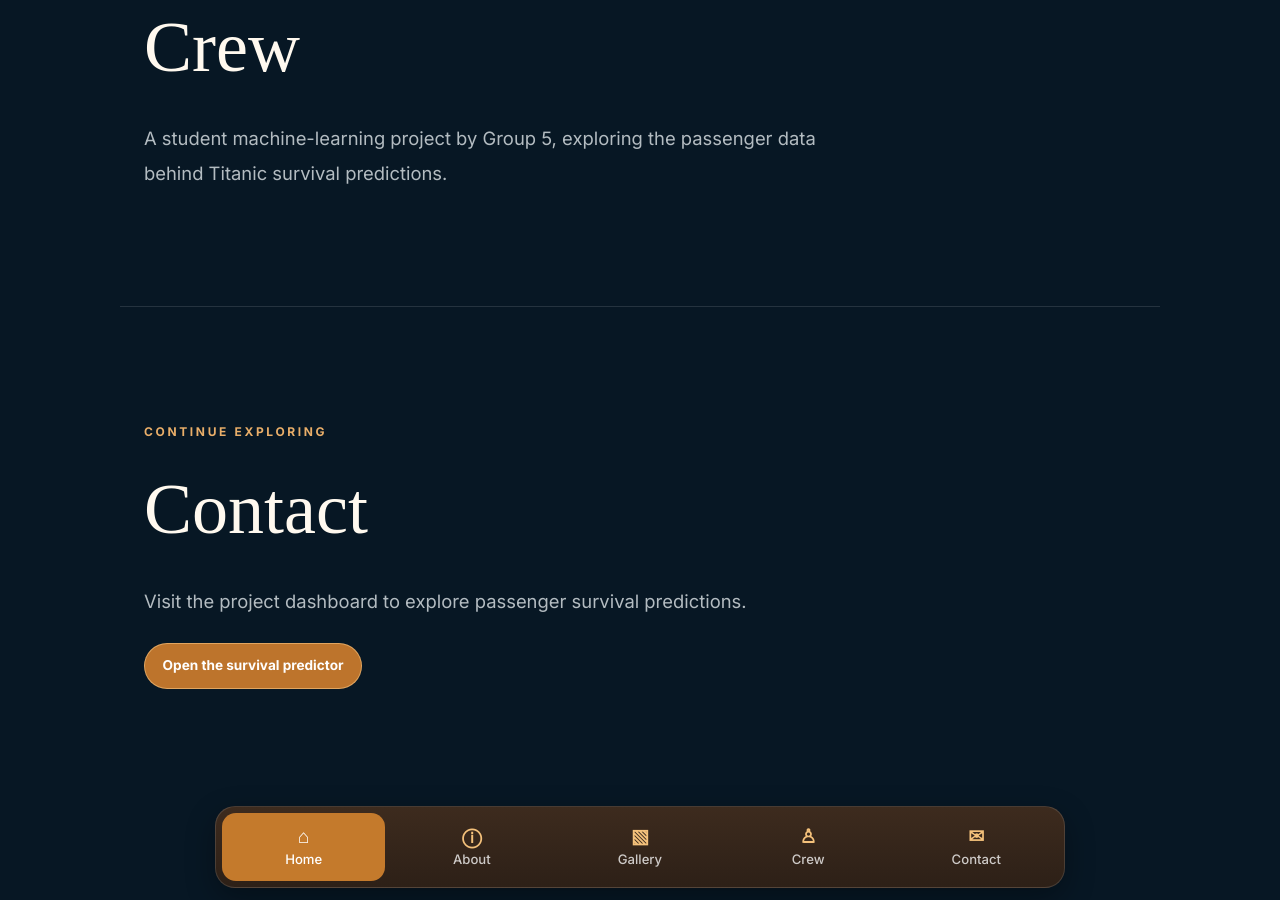
Test: renders a Titanic landing page with section navigation and image gallery
(page scrolled)
expect the footer named "Footer navigation" is shown: met, box [215,806,1065,888]
Click the button "Open the survival predictor": {"x": 253, "y": 666} [144,643,362,689]
(page scrolled)
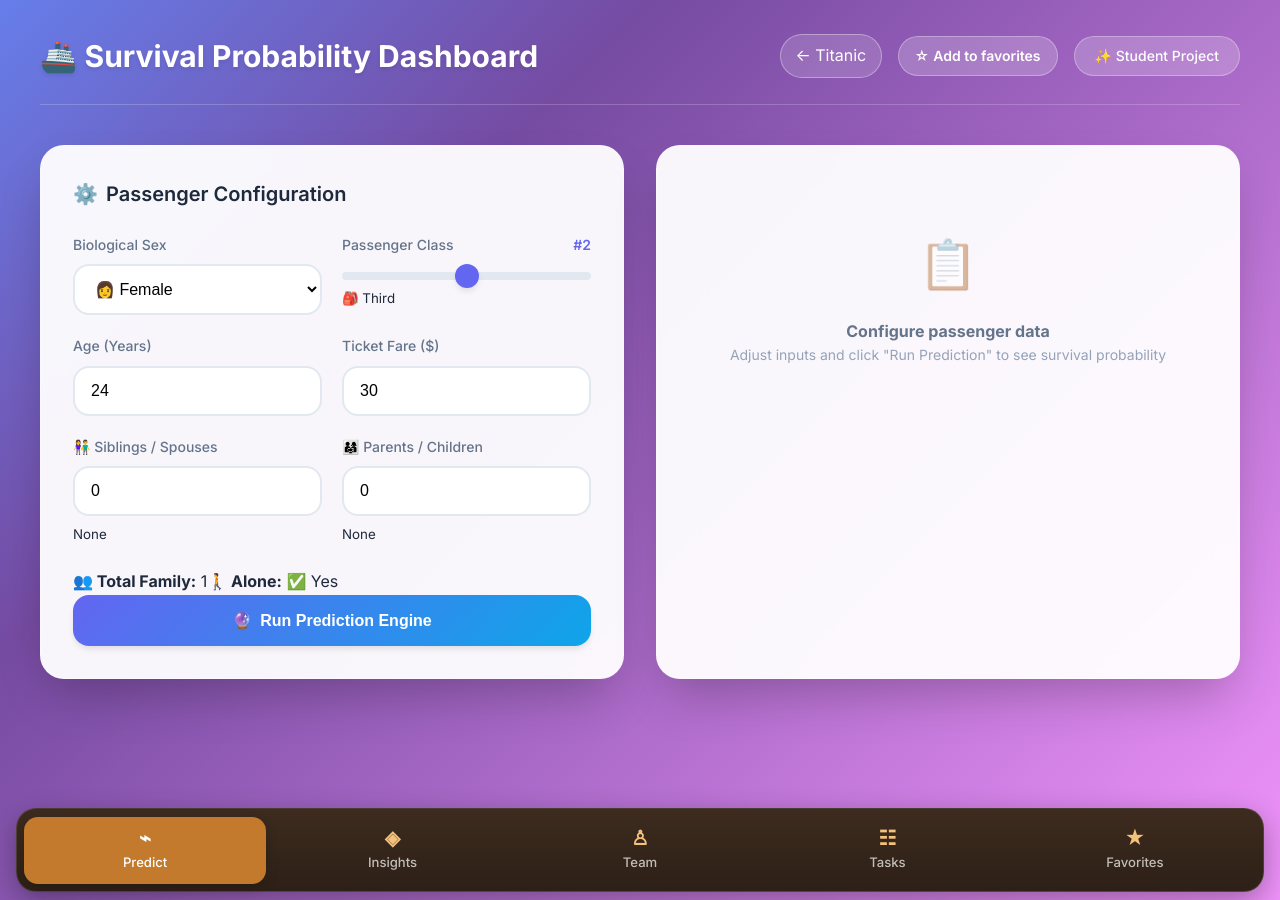
expect the heading "🚢 Survival Probability Dashboard" is shown: met, box [40,32,538,80]
